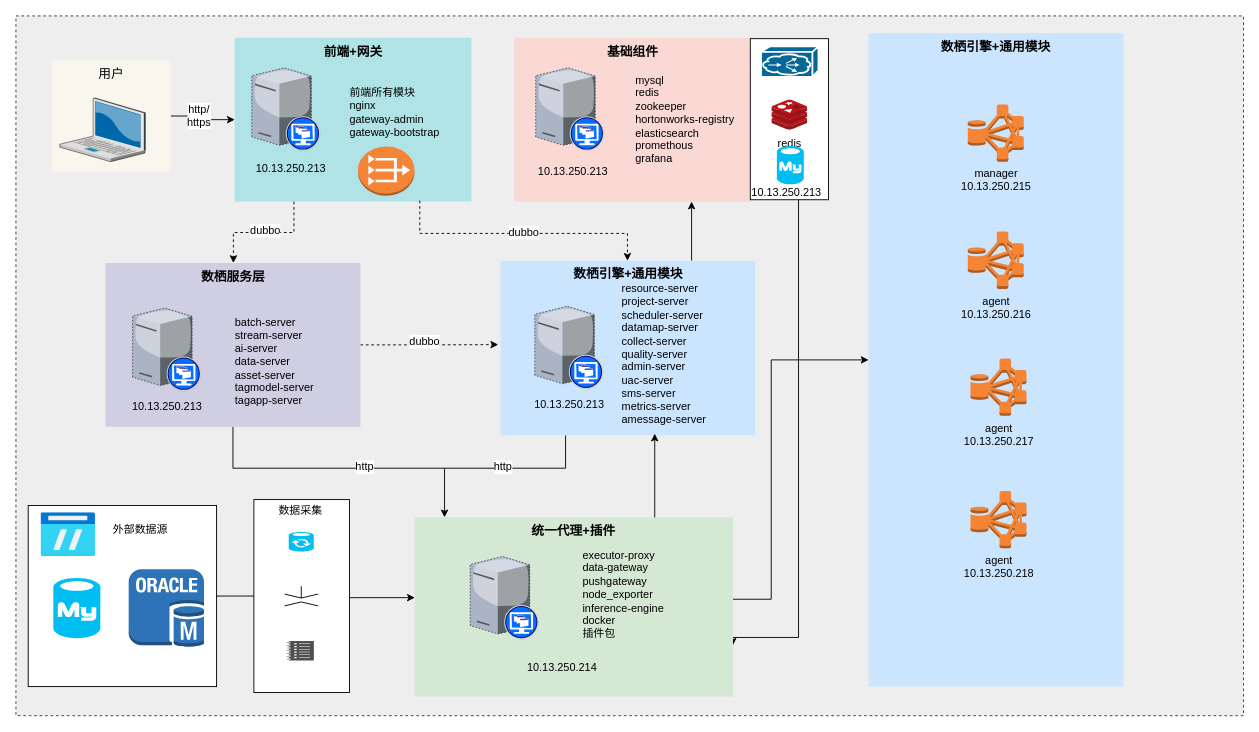
Image size: 1259x732. Some labels were removed from this diagram. The shapes that lost their labels are listed below. From the top down, each one's centre as x and y in pixels, then its label:
At (789,61): "zookeeper".
At (386,171): "nginx".
At (67,534): "非结构化数据".
At (300,541): "datax离线同步".
At (301,595): "采集工具flume".
At (299,650): "实时同步flinkcdc".
